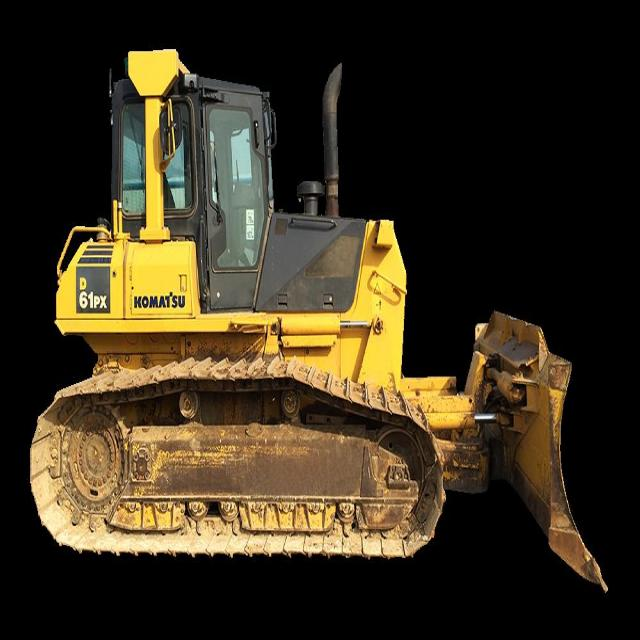Bulldozer: (31, 40, 615, 598)
